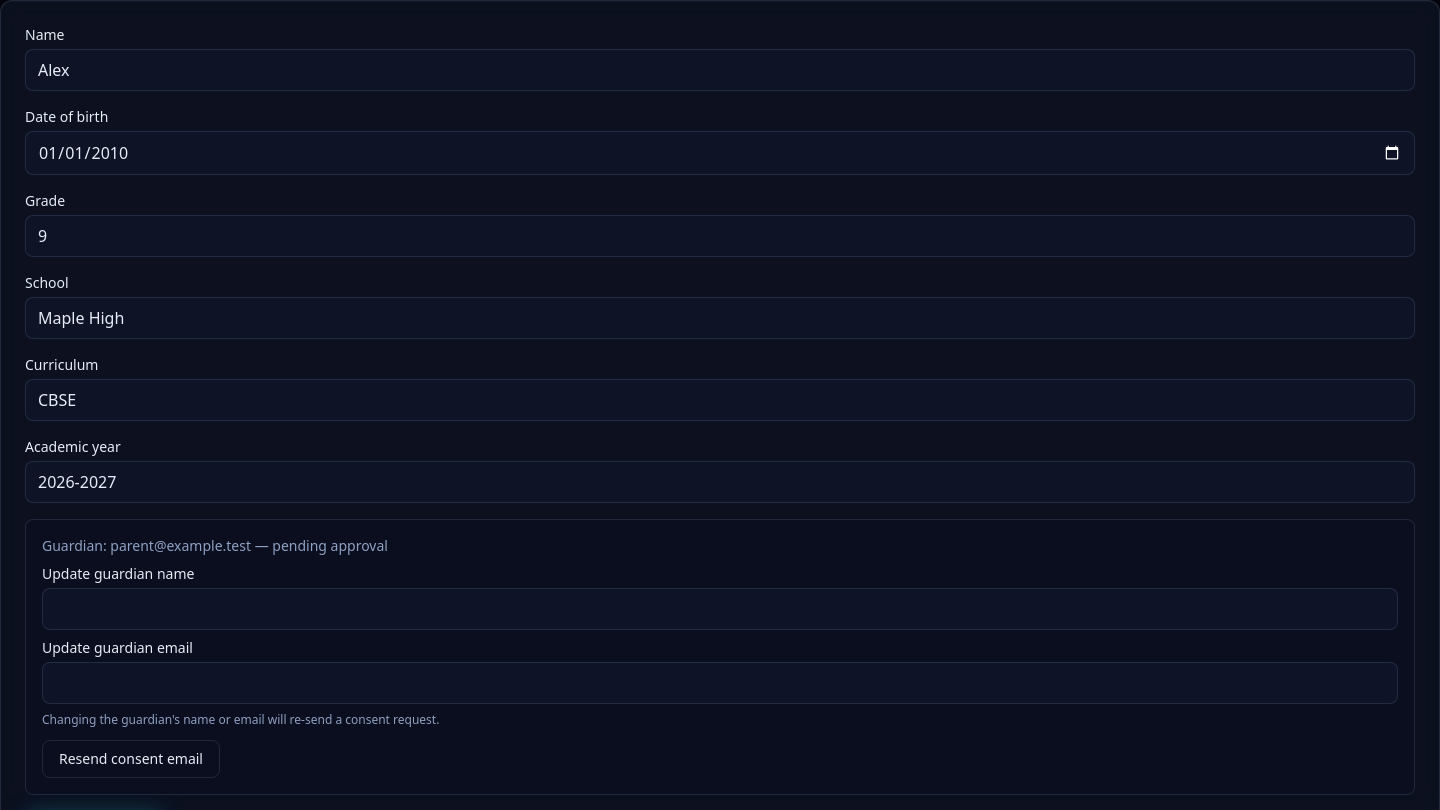
Scenario: ProfileEditForm › offers a standalone resend button while guardian consent is still pending
This screenshot has width=1440, height=810.
Click the button "Resend consent email".
click(131, 759)  # box 42,740 -> 220,778
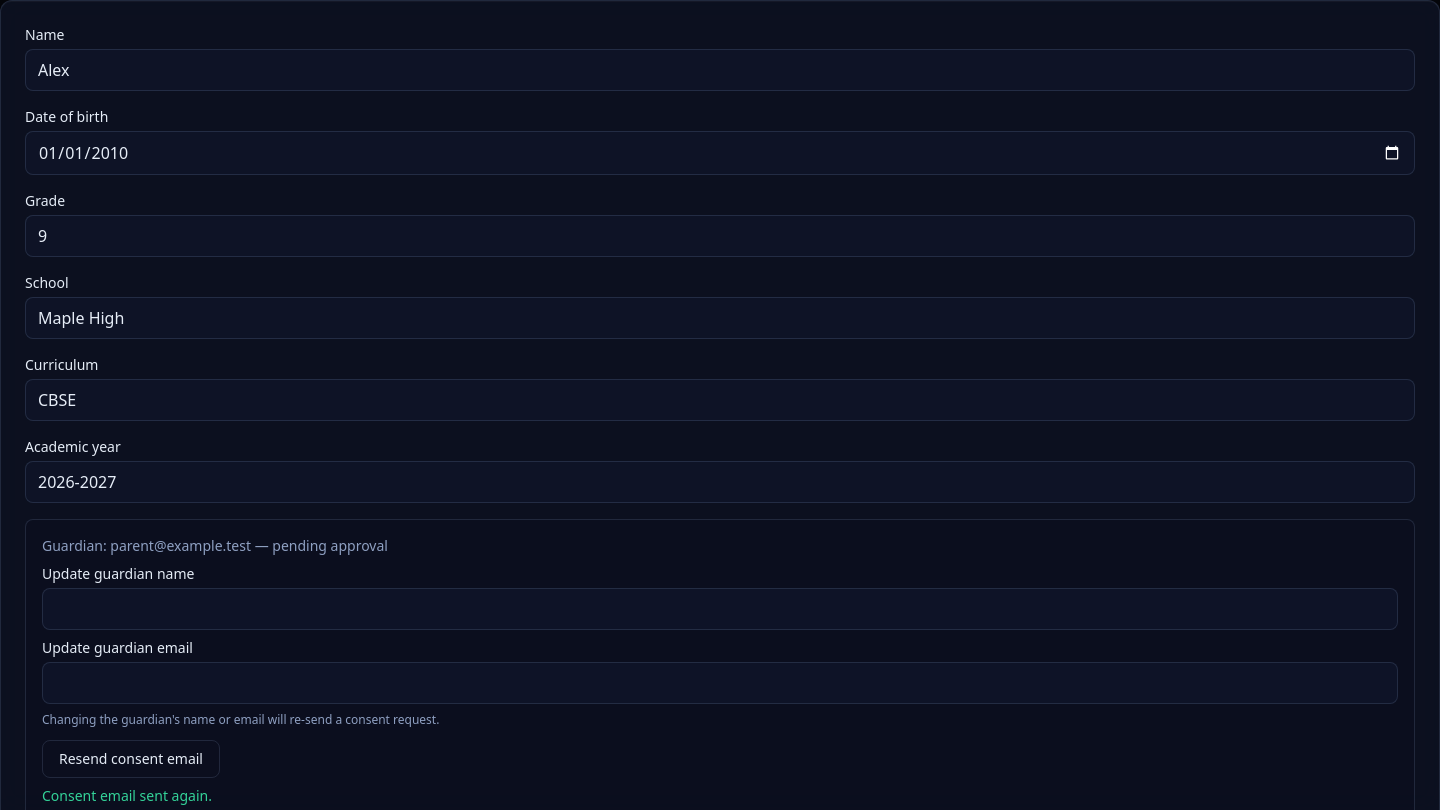
Expected: the text "Consent email sent again." is shown, 42,786 -> 212,805
